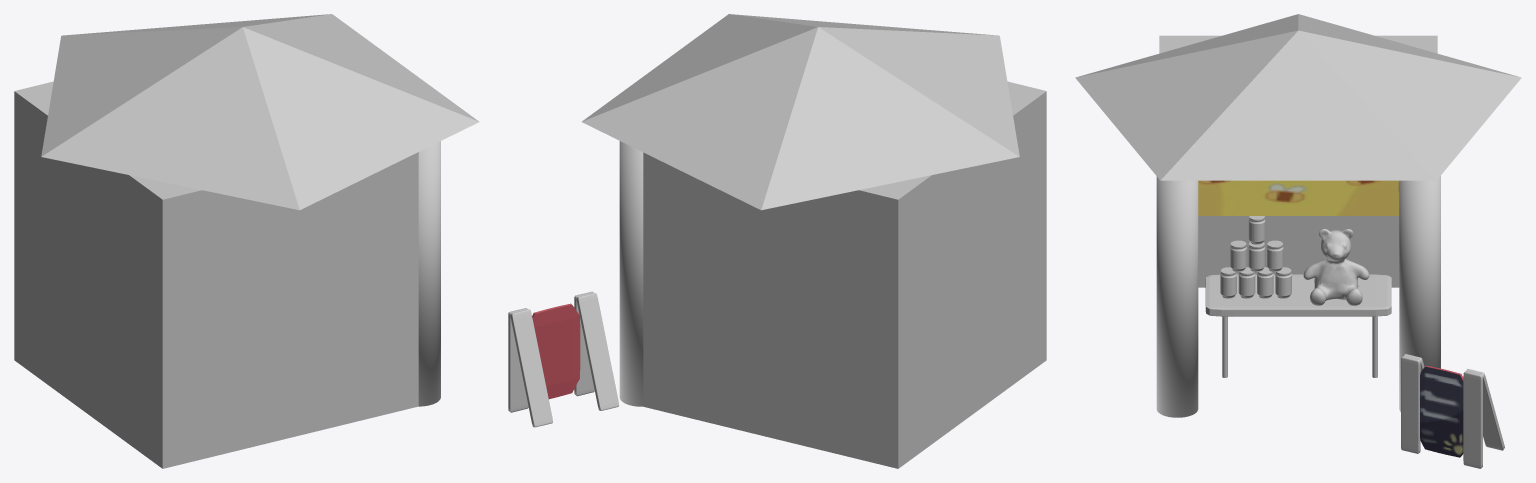
The model's file is carpa_mercado (1).fbx.
The picture shows the model from 3 angles, left to right: view 1: azimuth 30°, elevation 25°; view 2: azimuth 150°, elevation 25°; view 3: azimuth 270°, elevation 25°; orthographic projection. The views are drawn at different scales.
Parts seen in each view (by area): view 1: Cono; view 2: Cono; view 3: Cono.
Boxes of the visible parts, <box> form: Cono: <box>14,14,479,468</box>; Cono: <box>508,14,1046,468</box>; Cono: <box>1075,14,1521,468</box>.
Size of the model in its own units: 322 by 271 by 321.
